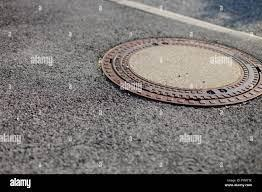closed manhole-not overflowing-: (99, 32, 262, 107)
